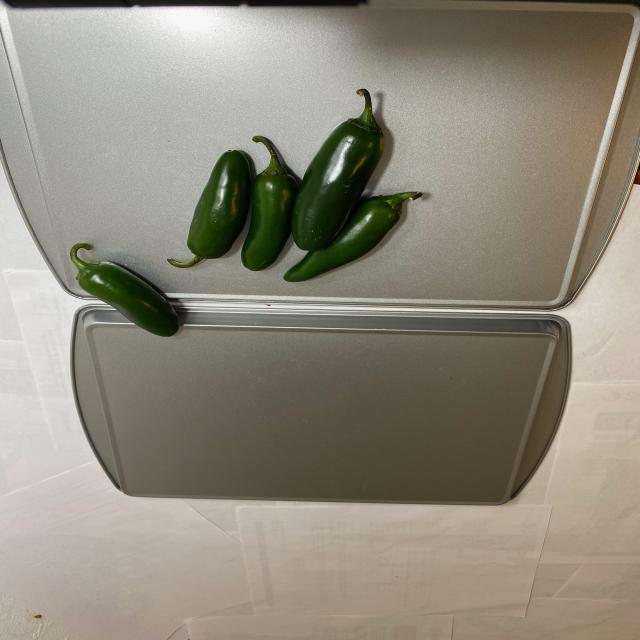chilli: (66, 84, 435, 333)
